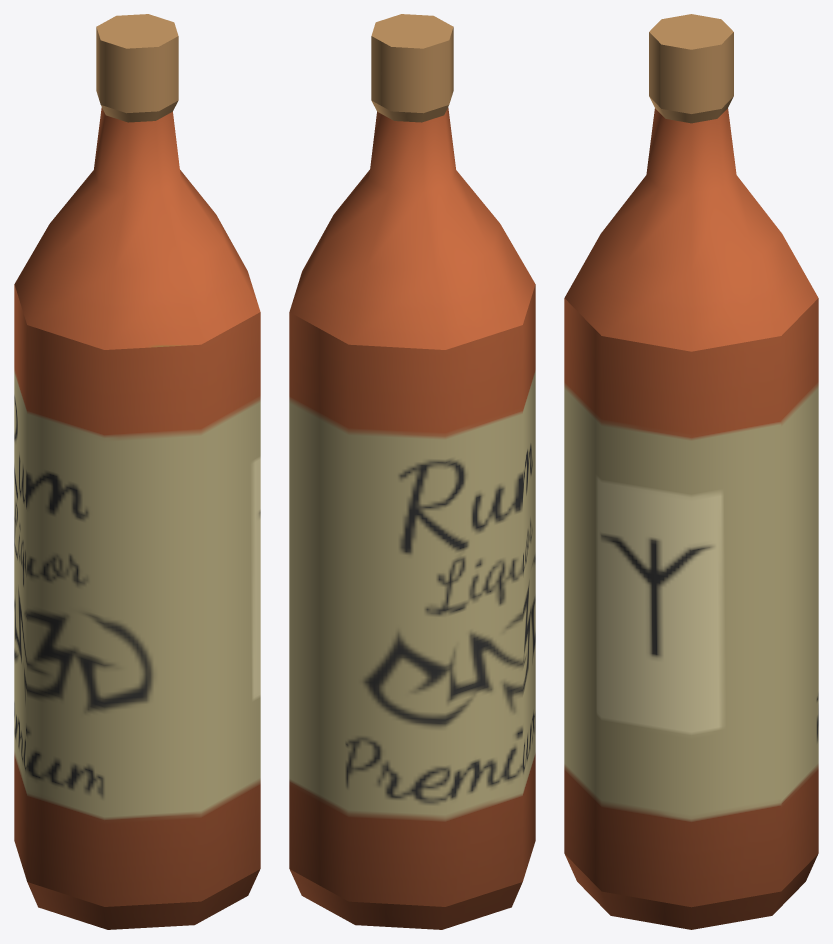
File: Rum.fbx
3 views of the same model, side by side, from view 1: azimuth 30°, elevation 25°; view 2: azimuth 150°, elevation 25°; view 3: azimuth 270°, elevation 25° (orthographic).
Visible parts, largest first — view 1: Rum; view 2: Rum; view 3: Rum.
Boxes of the visible parts, x1=… form: Rum: x1=14, y1=14, x2=260, y2=929; Rum: x1=289, y1=14, x2=535, y2=929; Rum: x1=564, y1=14, x2=818, y2=929.
Size of the model in its own units: 7.53 by 27.77 by 7.53.
